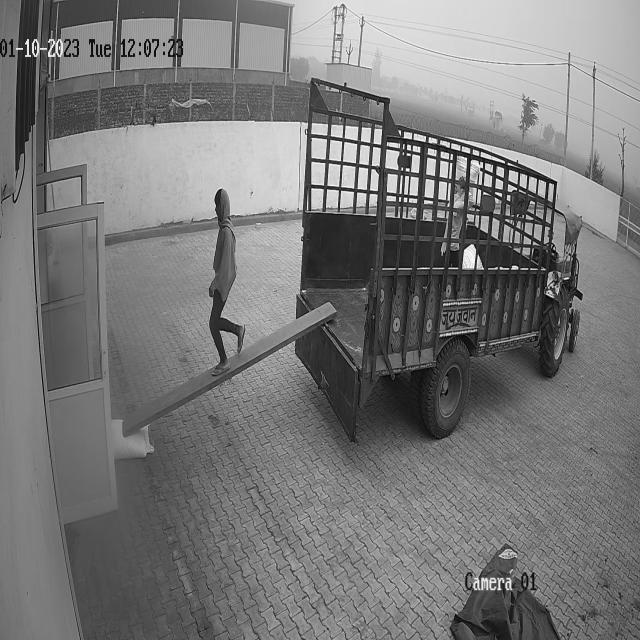sack: (110, 418, 152, 458)
